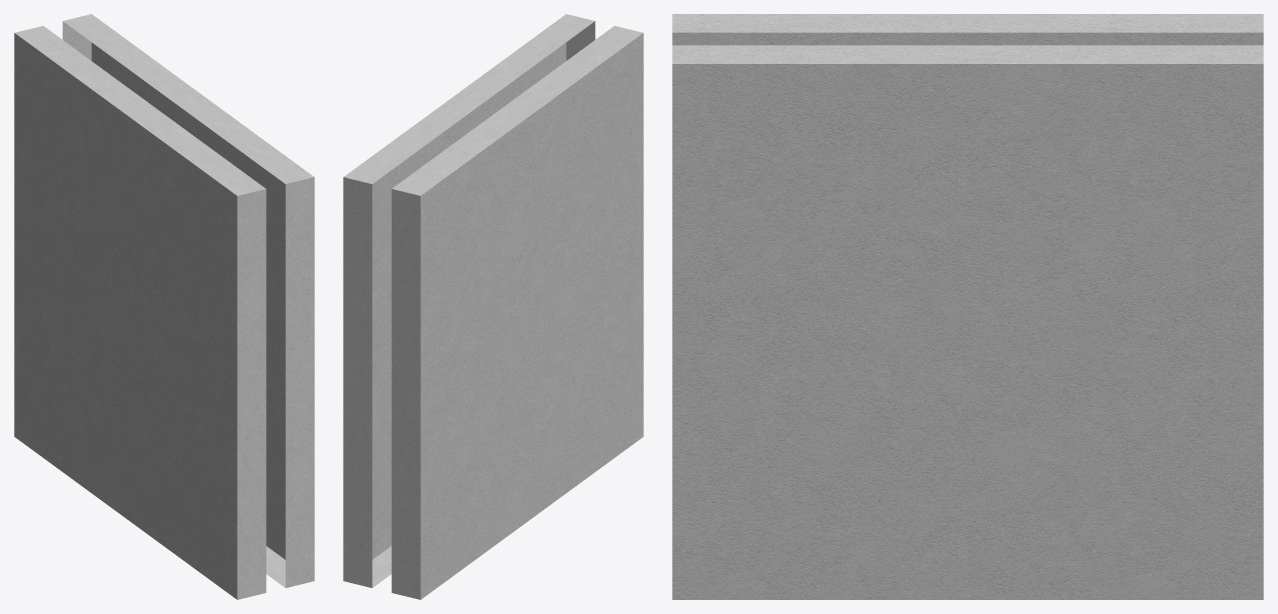
Rendered from simple wall 2x2x04 plaster.fbx.
The picture shows the model from 3 angles, left to right: view 1: azimuth 30°, elevation 25°; view 2: azimuth 150°, elevation 25°; view 3: azimuth 270°, elevation 25°; orthographic projection. The views are drawn at different scales.
Visible parts, largest first — view 1: Cube; view 2: Cube; view 3: Cube.
Boxes of the visible parts, box(x1,y1,x2,y2) form: Cube: box(14, 14, 314, 599); Cube: box(343, 14, 643, 599); Cube: box(672, 14, 1263, 599).
Bounding box in the file's own units: 40 × 200 × 200.
